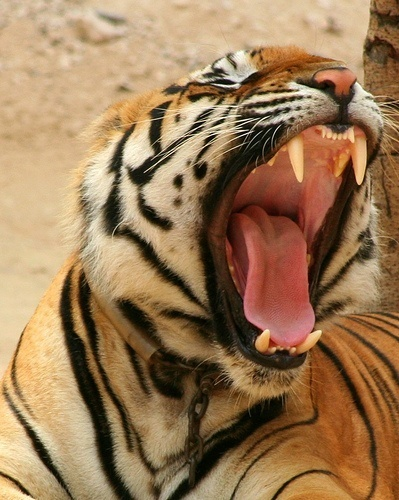tigre: (1, 42, 398, 499)
